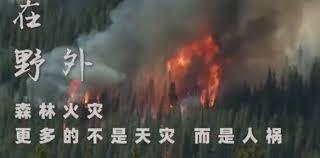fire: (149, 35, 225, 109)
